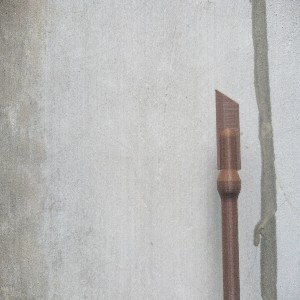cutter: (214, 88, 243, 300)
